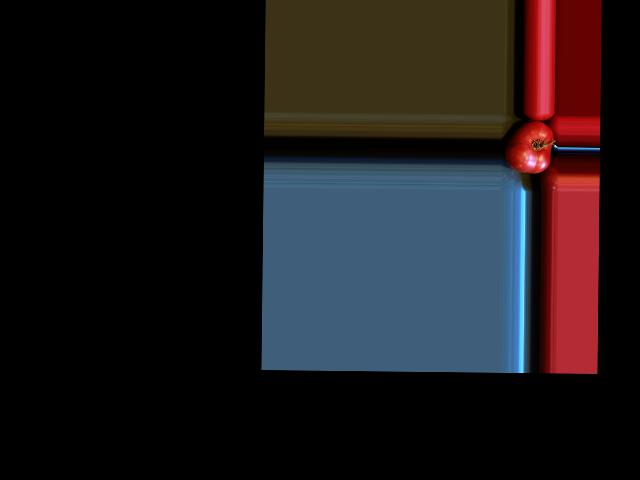tomato: (504, 120, 553, 173)
